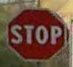stop: (5, 7, 66, 61)
